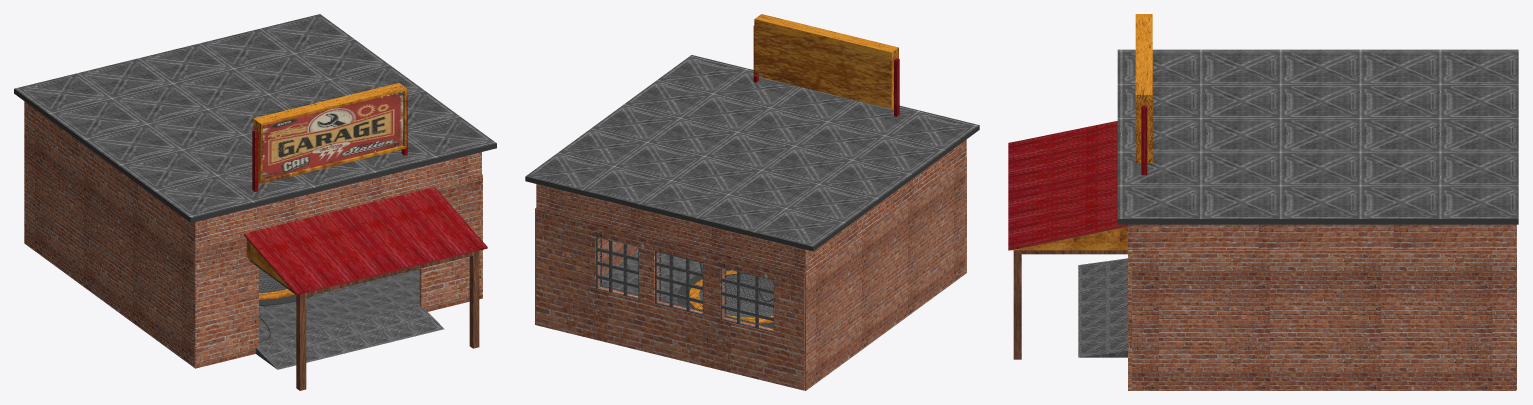
File: werkstatt.glb
The picture shows the model from 3 angles, left to right: view 1: azimuth 30°, elevation 25°; view 2: azimuth 150°, elevation 25°; view 3: azimuth 270°, elevation 25°; orthographic projection. The views are drawn at different scales.
Visible parts, largest first — view 1: Cube, Plane.007, Cube.017, Cube.018, Plane.005, Plane.008, Plane.006, Cube.015, Circle, Cube.019, Cube.016; view 2: Cube, Plane.002, Plane.007, Cube.018, Plane.003, Circle, Plane.005, Plane.006, Plane.004, Cube.019; view 3: Cube, Plane.006, Cube.017, Plane.008, Cube.018, Cube.015, Cube.016, Cube.019.
Part boxes in pixels (x1,y1,x2,y2): Cube: [14, 14, 496, 244]; Plane.007: [24, 120, 258, 368]; Cube.017: [243, 187, 487, 294]; Cube.018: [253, 83, 406, 183]; Plane.005: [259, 269, 419, 342]; Plane.008: [255, 304, 444, 369]; Plane.006: [419, 174, 482, 311]; Cube.015: [249, 251, 479, 390]; Circle: [259, 268, 315, 305]; Cube.019: [252, 95, 407, 191]; Cube.016: [246, 239, 290, 288]; Cube: [525, 55, 979, 274]; Plane.002: [536, 209, 804, 390]; Plane.007: [804, 157, 966, 390]; Cube.018: [754, 14, 898, 108]; Plane.003: [596, 237, 773, 332]; Circle: [677, 269, 773, 326]; Plane.005: [602, 251, 702, 303]; Plane.006: [535, 208, 638, 324]; Plane.004: [600, 238, 773, 328]; Cube.019: [753, 25, 899, 116]; Cube: [1117, 49, 1518, 249]; Plane.006: [1128, 250, 1516, 390]; Cube.017: [1008, 121, 1127, 250]; Plane.008: [1078, 258, 1127, 357]; Cube.018: [1135, 14, 1152, 162]; Cube.015: [1013, 250, 1127, 359]; Cube.016: [1011, 226, 1127, 250]; Cube.019: [1141, 105, 1147, 175].
Size of the model in its own units: 17.15 by 12.1 by 21.83.
16 materials, 14 textured.
